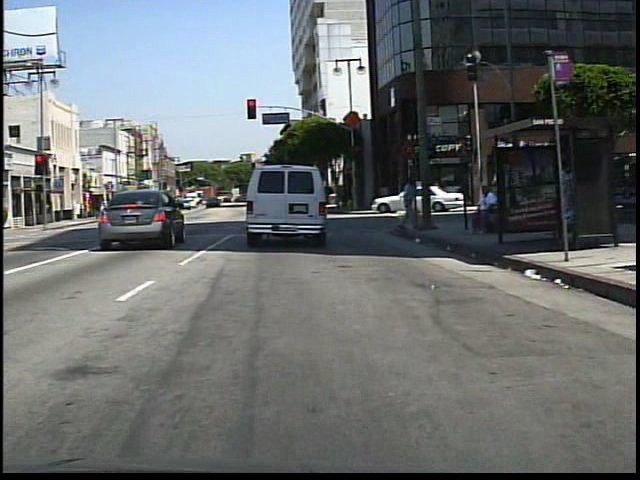person: (471, 182, 502, 237), (396, 173, 421, 233), (97, 193, 112, 219)
